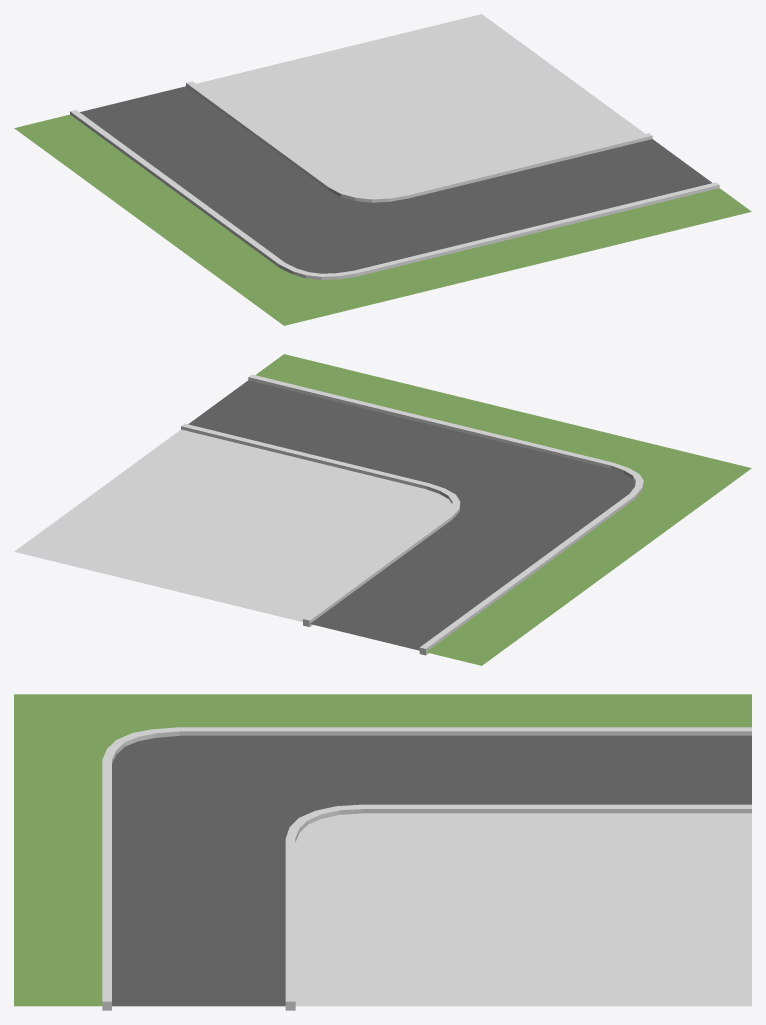
File: set_b_tiles_01.glb
The picture shows the model from 3 angles, top to bottom: view 1: azimuth 30°, elevation 25°; view 2: azimuth 150°, elevation 25°; view 3: azimuth 270°, elevation 25°; orthographic projection. The views are drawn at different scales.
Visible parts, largest first — view 1: set_b_tiles_01; view 2: set_b_tiles_01; view 3: set_b_tiles_01.
Boxes of the visible parts, box(x1,y1,x2,y2) form: set_b_tiles_01: box(14, 14, 751, 325); set_b_tiles_01: box(14, 354, 751, 665); set_b_tiles_01: box(14, 694, 751, 1010).
Bounding box in the file's own units: 15 × 0.2 × 15.
